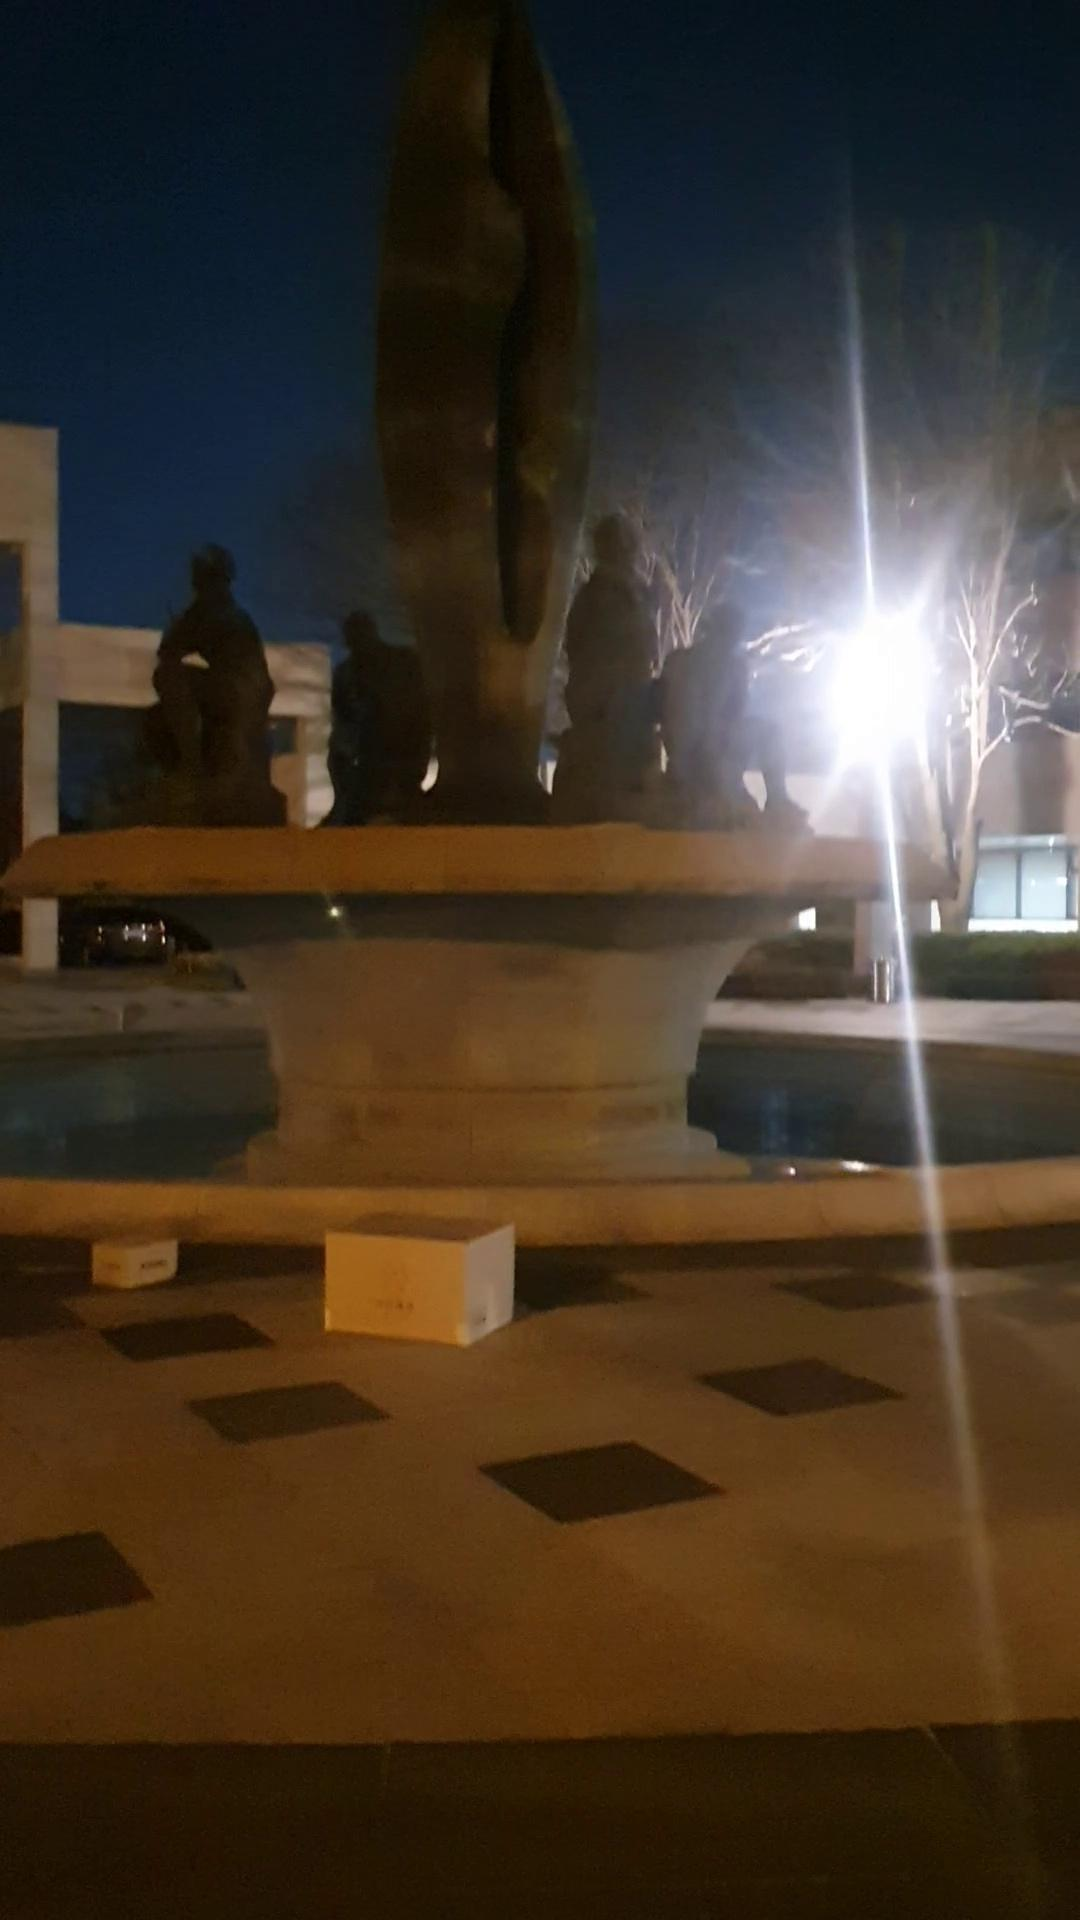Box: (306, 1203, 527, 1348), (80, 1225, 190, 1292)
